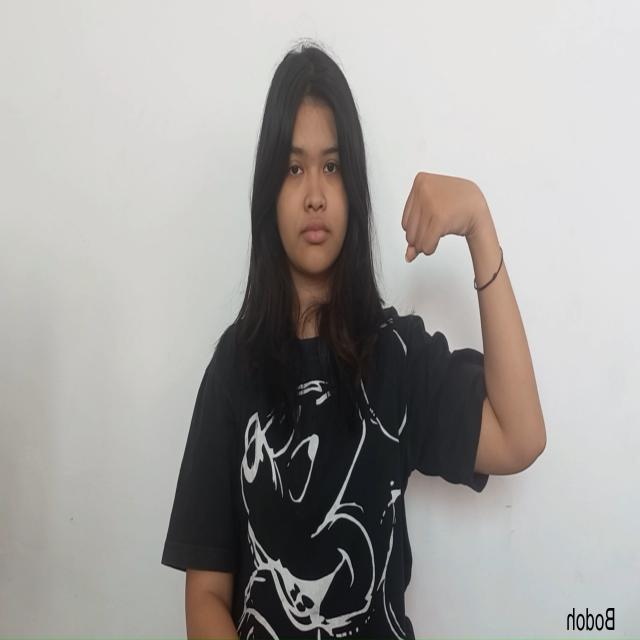Bodoh -BISINDO-: (399, 166, 483, 268)
